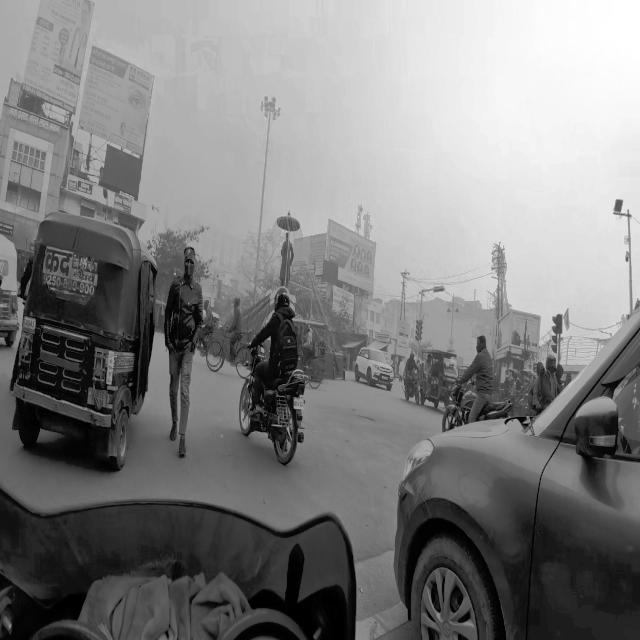Auto-Rickshaw: (8, 201, 168, 480), (0, 225, 21, 346)
Bike: (245, 284, 318, 480), (441, 342, 517, 429), (402, 348, 421, 403)
Car: (384, 284, 640, 636), (354, 343, 394, 393)
Toto: (292, 307, 327, 378), (420, 344, 455, 406)
